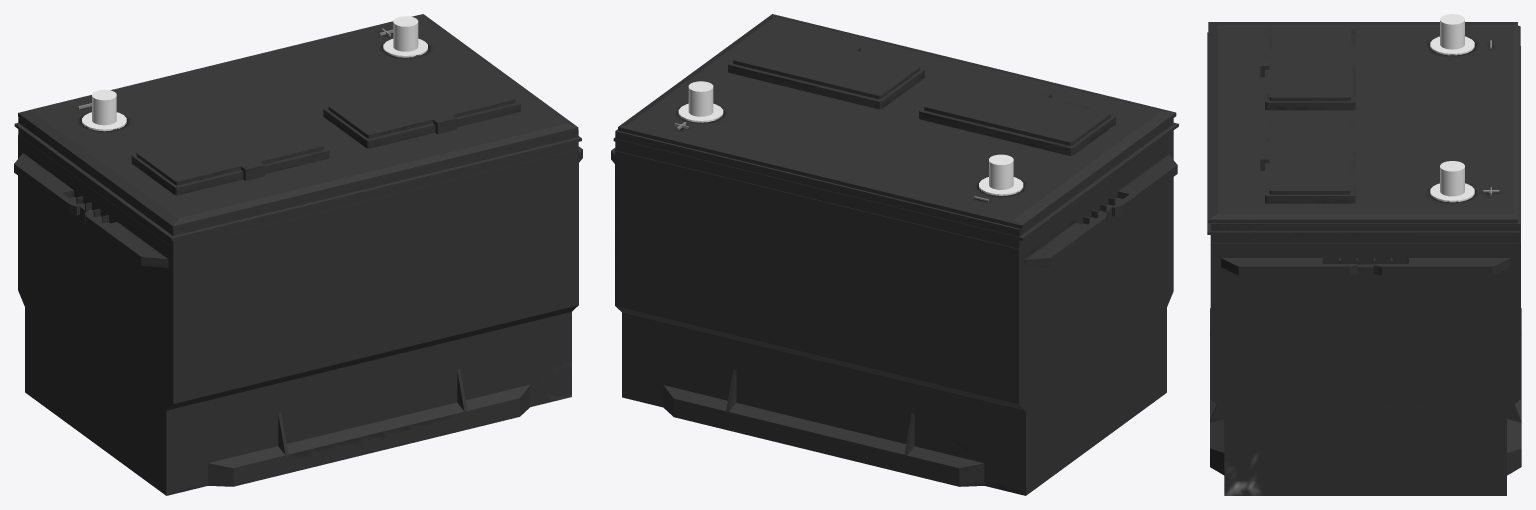
File: acumulador3.glb
The picture shows the model from 3 angles, left to right: view 1: azimuth 30°, elevation 25°; view 2: azimuth 150°, elevation 25°; view 3: azimuth 270°, elevation 25°; orthographic projection.
Visible parts, largest first — view 1: node_id6, node_id9; view 2: node_id6, node_id9; view 3: node_id6, node_id9.
Part boxes in pixels (<box>): node_id6: <box>14,14,582,495</box>; node_id9: <box>82,16,427,131</box>; node_id6: <box>611,14,1178,495</box>; node_id9: <box>678,81,1023,195</box>; node_id6: <box>1207,22,1521,495</box>; node_id9: <box>1430,14,1474,202</box>.
Size of the model in its own units: 0.512 by 0.3377 by 0.3162.
Materials: 3 (3 with a texture image).
